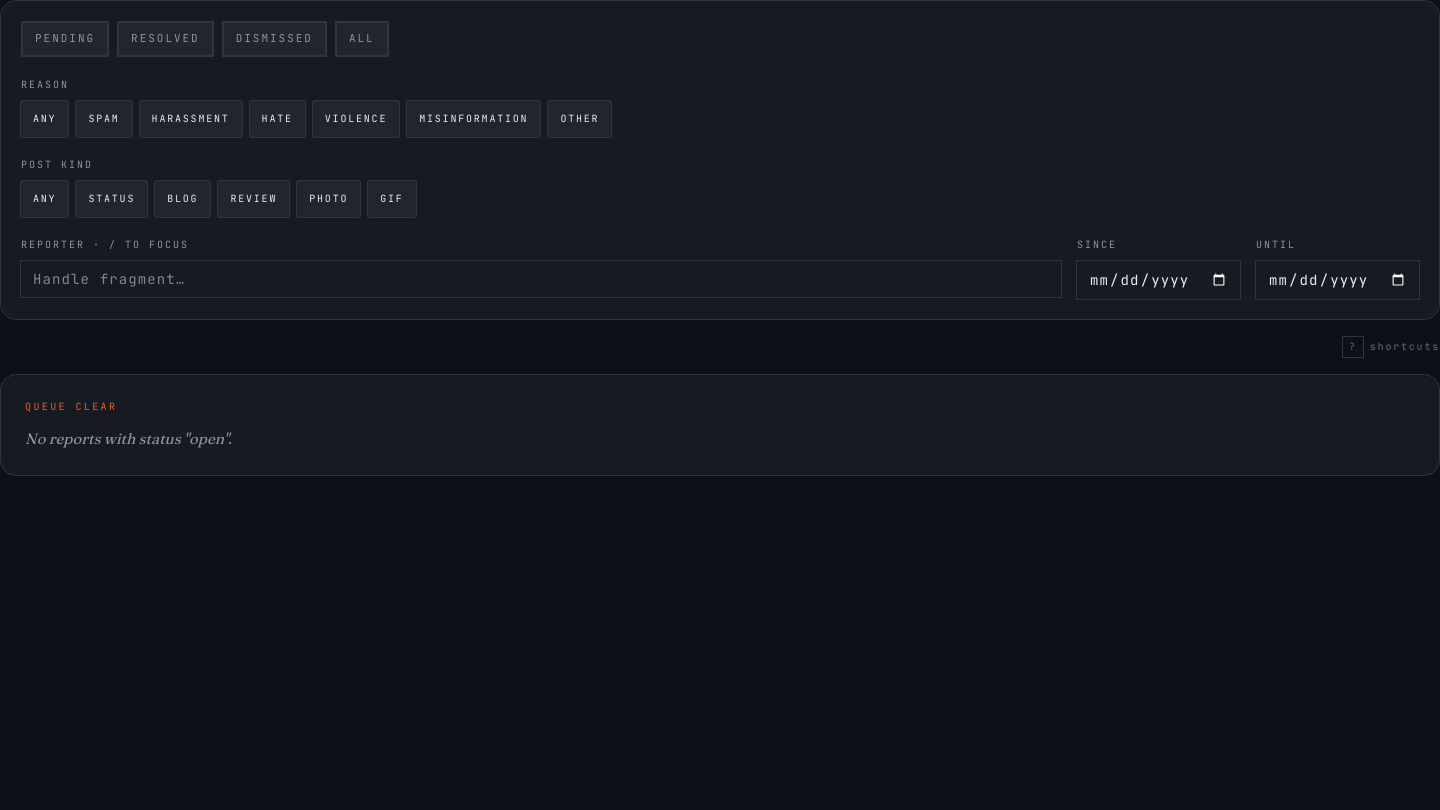
Test: ShortcutOverlay — Escape is owned by Dialog alone › its own CLOSE button dismisses the sheet
Press ?
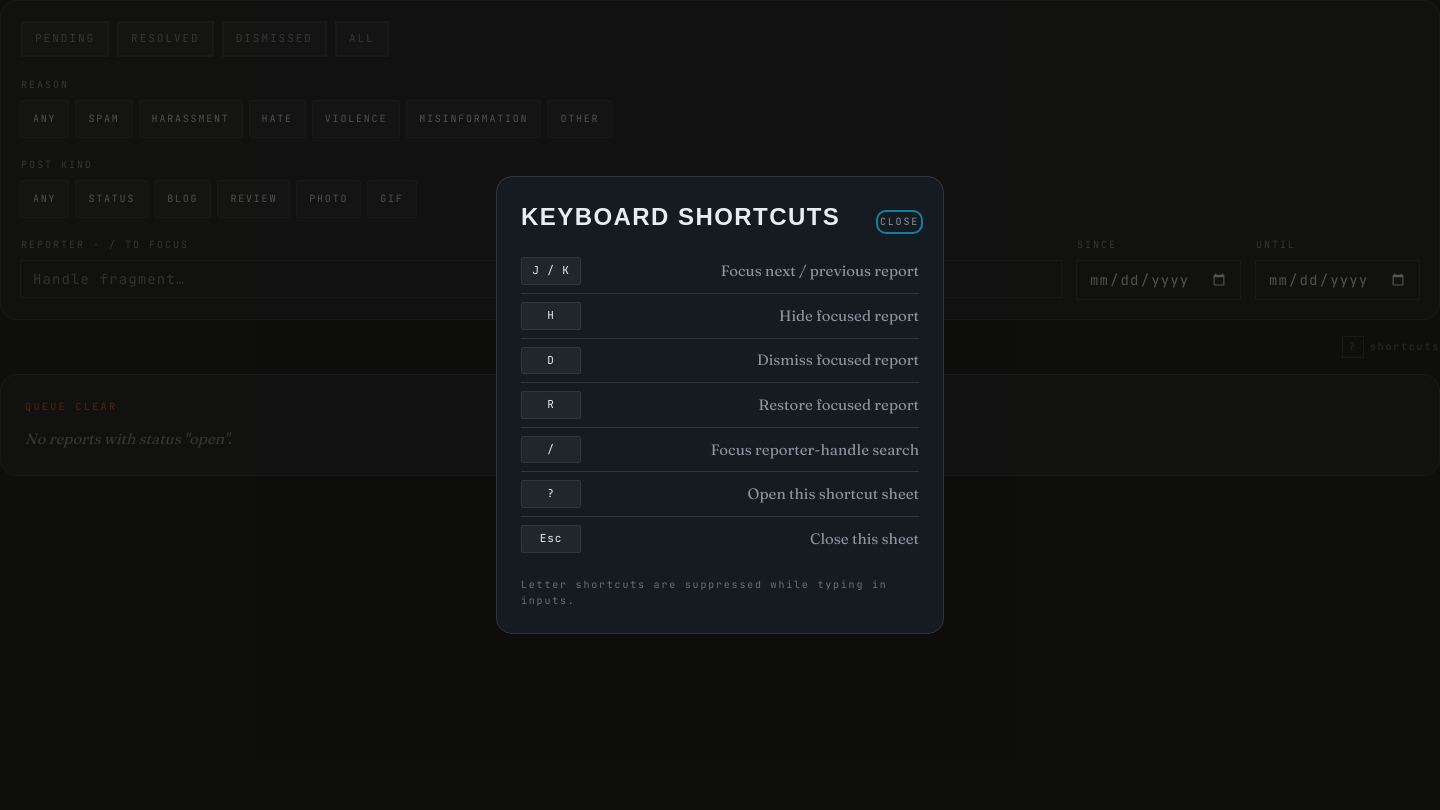
Result: the dialog is shown
Click the button with aria-label "close shortcut sheet": (900, 222) [880,214,919,230]
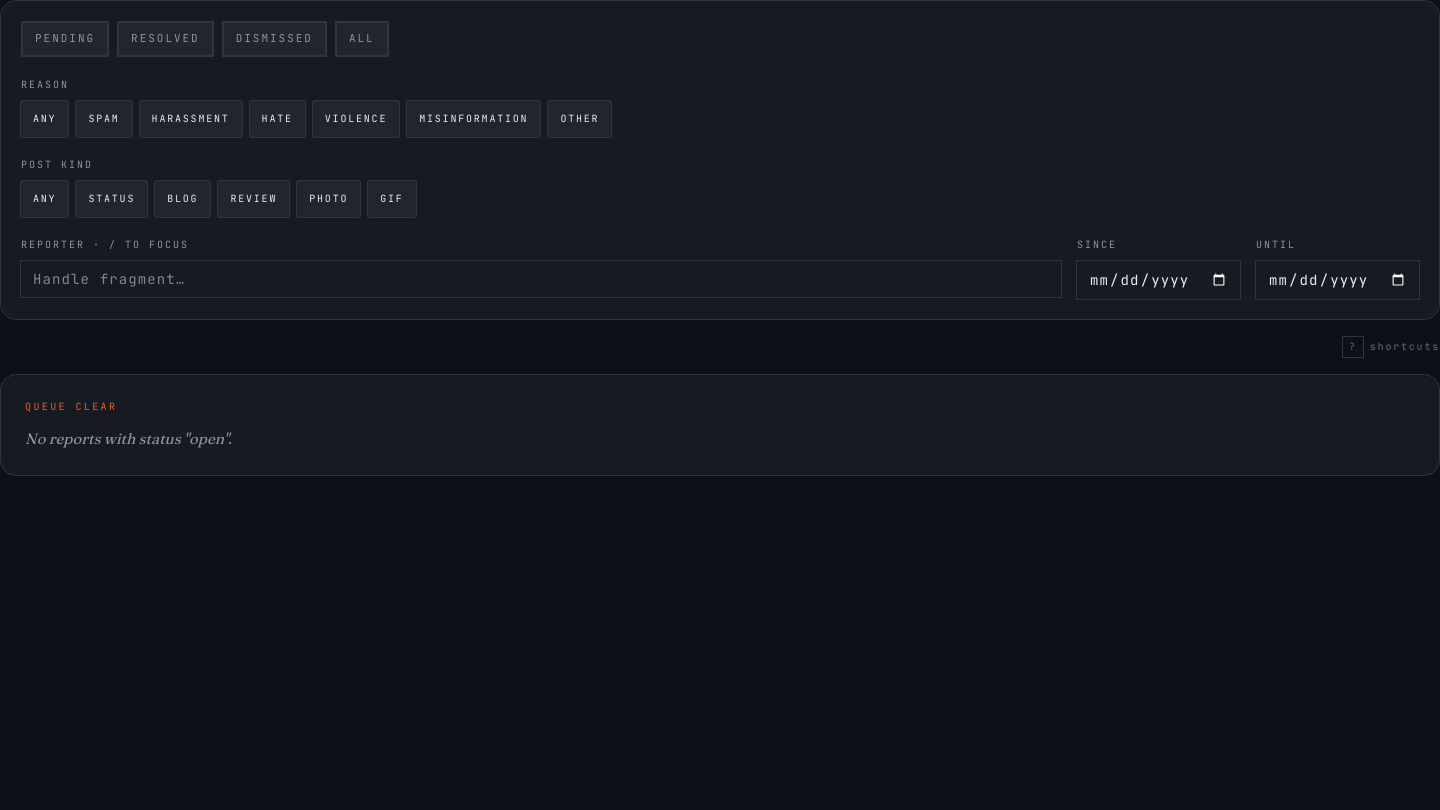
Result: the dialog is gone
